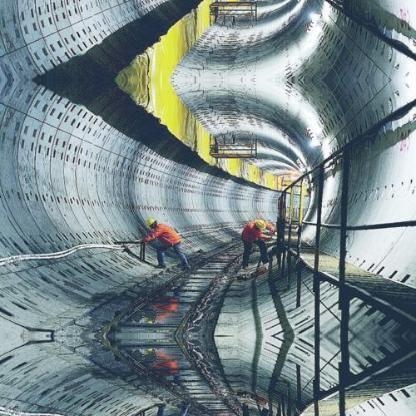helmet: (254, 216, 267, 229), (145, 218, 157, 228)
